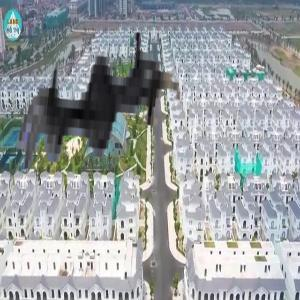drone: (3, 20, 197, 214)
